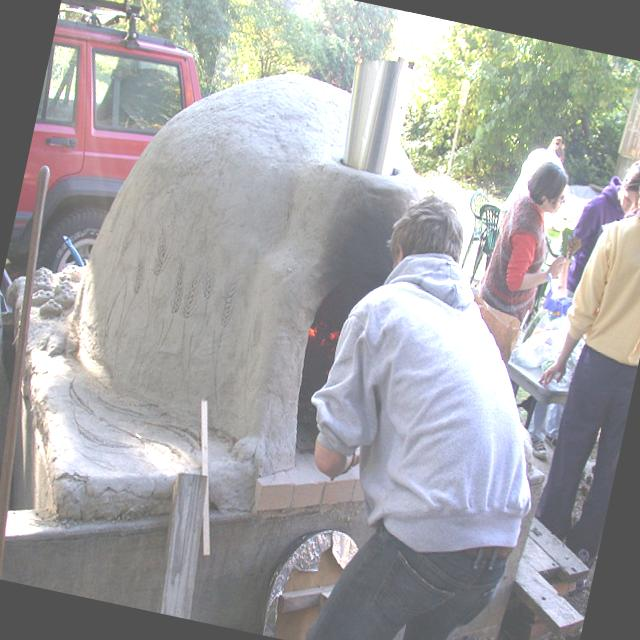Vehicle: (7, 0, 218, 285)
